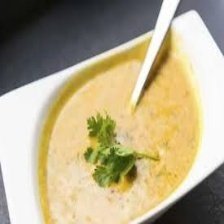dal: (33, 38, 208, 224)
